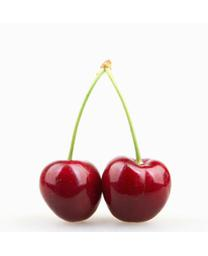cherry: (101, 156, 171, 223), (39, 161, 101, 223)
